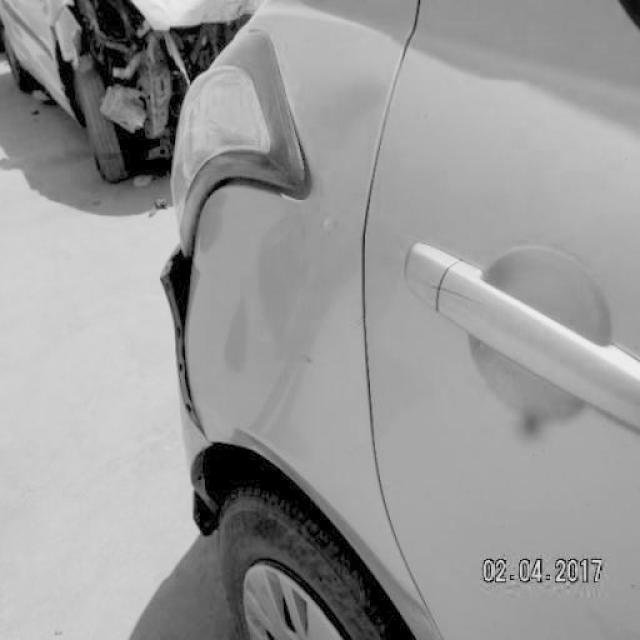car damage: (162, 244, 209, 446)
